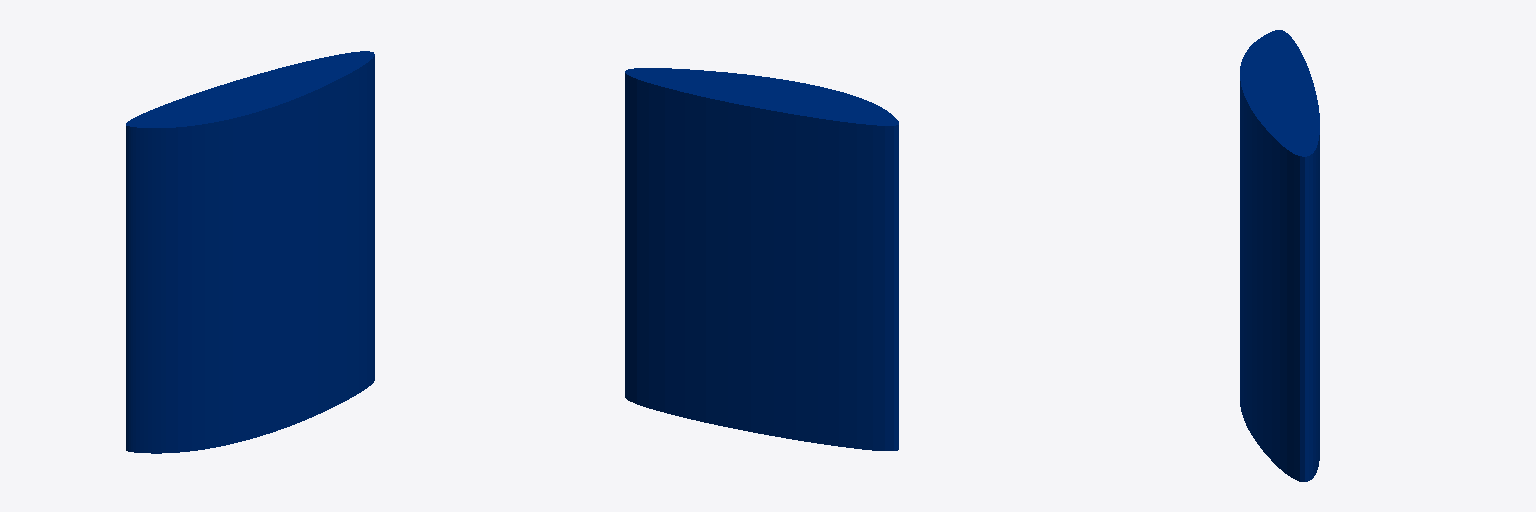
3 views of the same model, side by side, from view 1: azimuth 30°, elevation 25°; view 2: azimuth 150°, elevation 25°; view 3: azimuth 270°, elevation 25° (orthographic).
Visible parts, largest first — view 1: Curve.028_path4234; view 2: Curve.028_path4234; view 3: Curve.028_path4234.
Boxes of the visible parts, x1,y1,x2,y2 form: Curve.028_path4234: [126, 51, 374, 453]; Curve.028_path4234: [625, 68, 898, 450]; Curve.028_path4234: [1240, 30, 1319, 481].
Size of the model in its own units: 0.0838 by 0.1 by 0.0224.